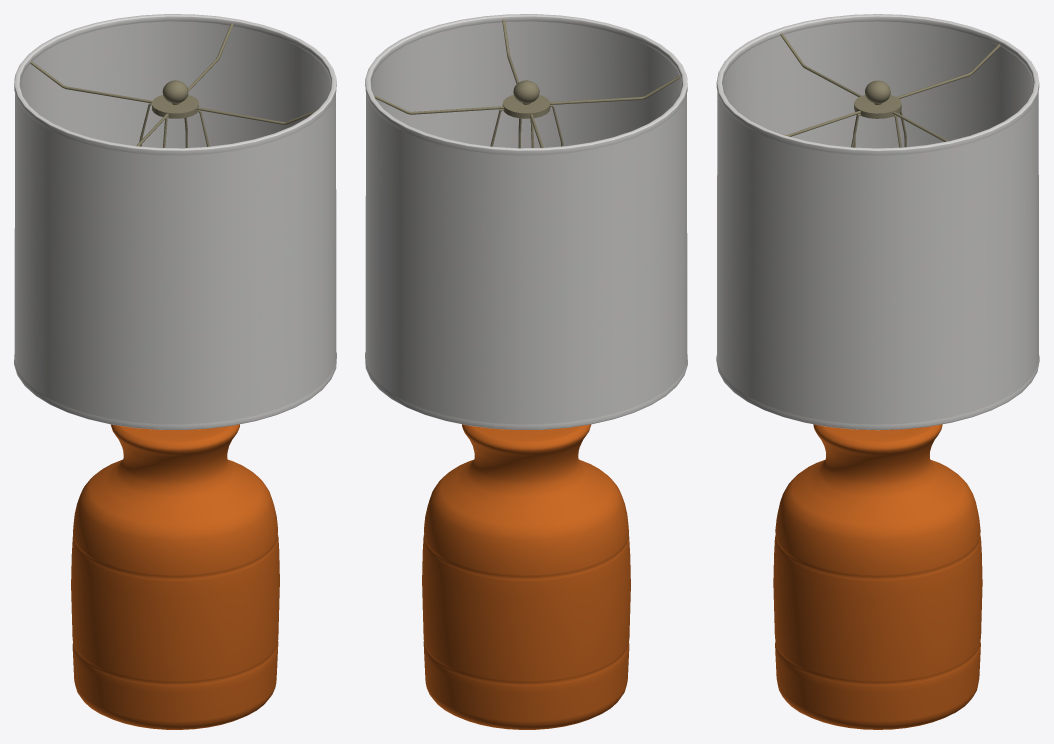
Rendered from abo-B07ML7J57M.glb.
3 views of the same model, side by side, from view 1: azimuth 30°, elevation 25°; view 2: azimuth 150°, elevation 25°; view 3: azimuth 270°, elevation 25° (orthographic).
Bounding box in the file's own units: 0.418 × 0.871 × 0.418.
1 material, 1 textured.
